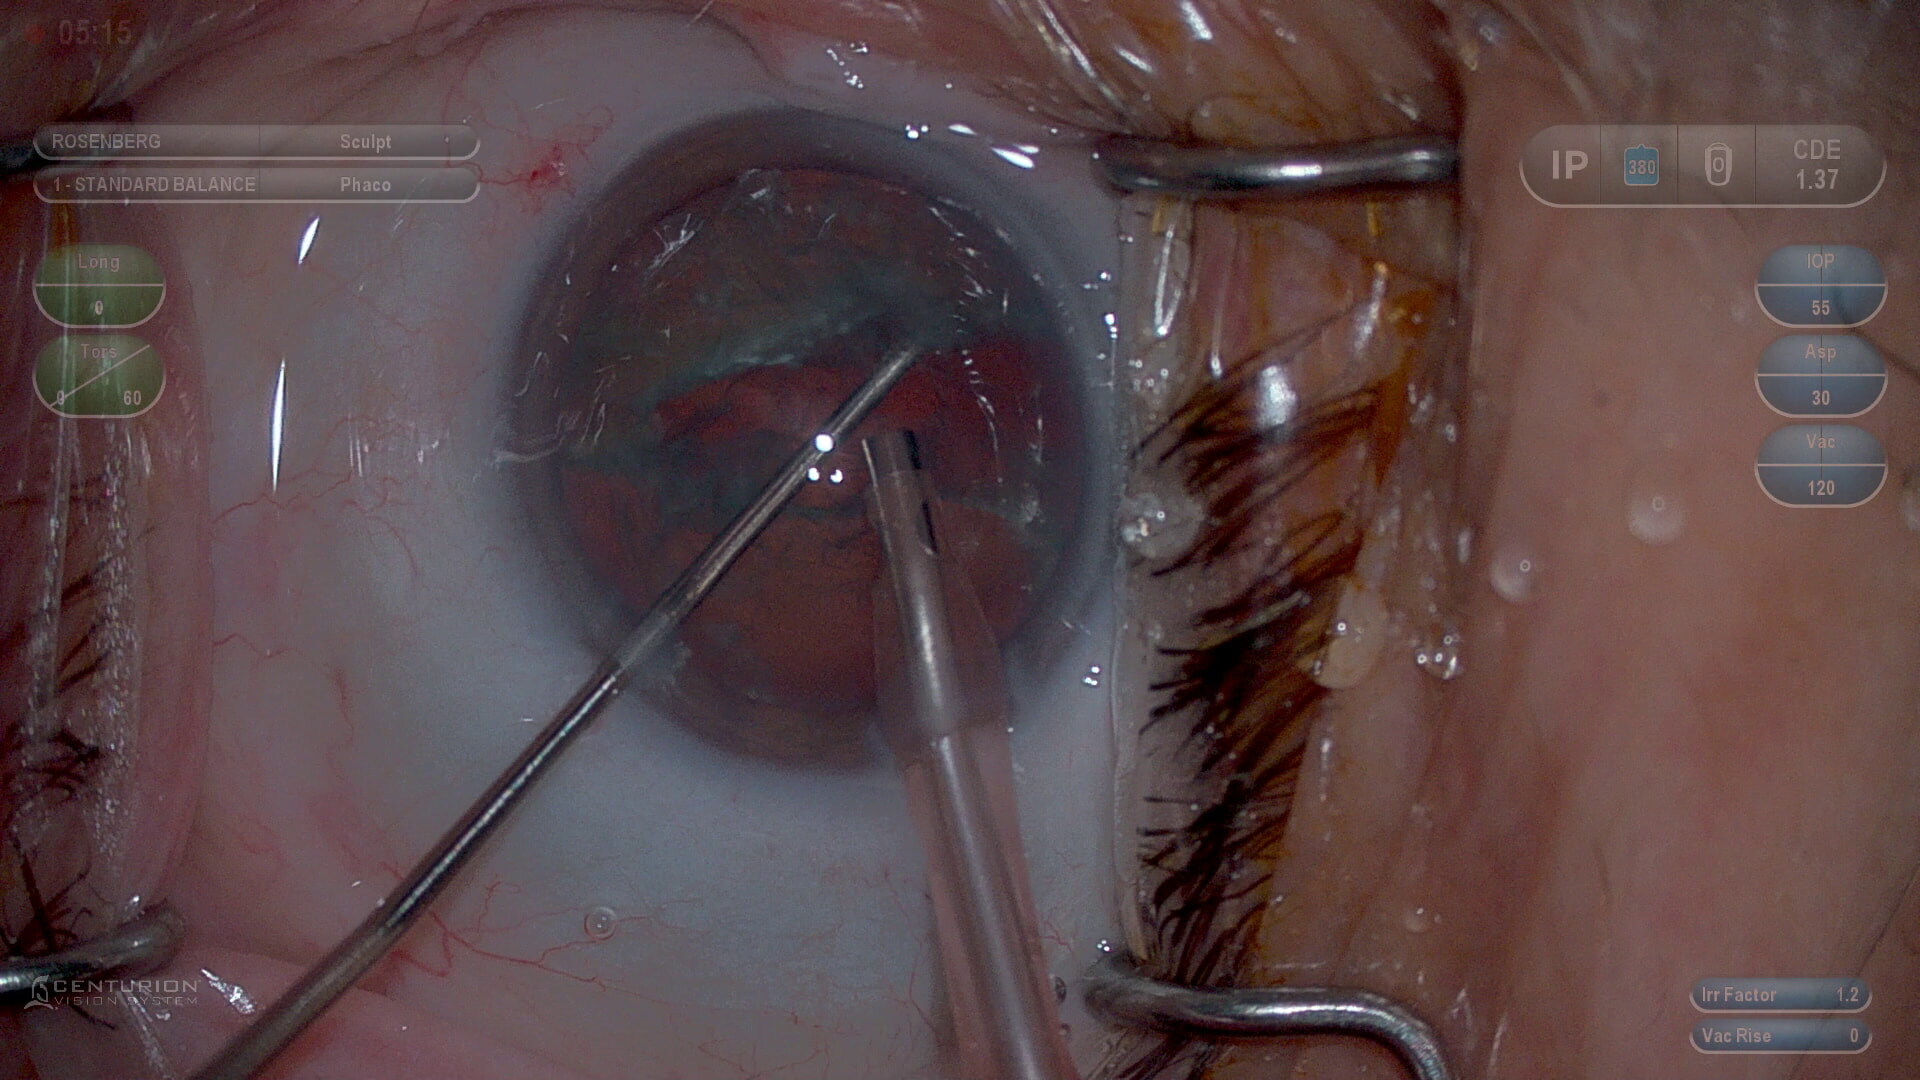iris: (506, 114, 1118, 765)
pupil: (552, 178, 1084, 714)
